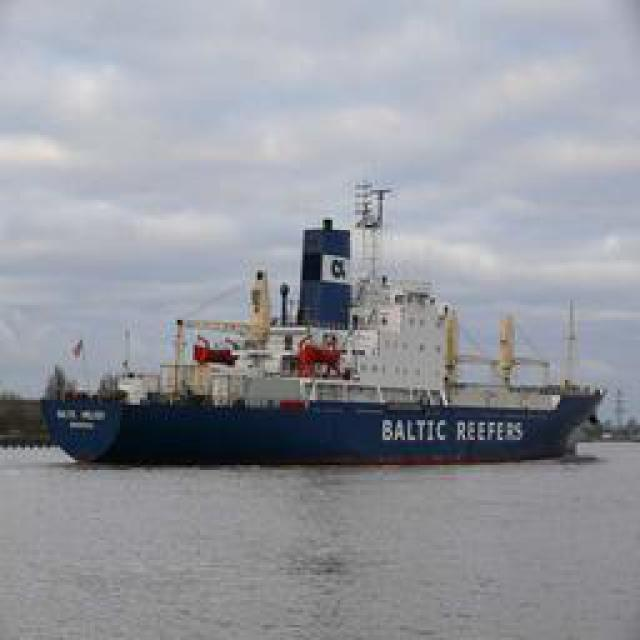Ship: (27, 277, 620, 470)
